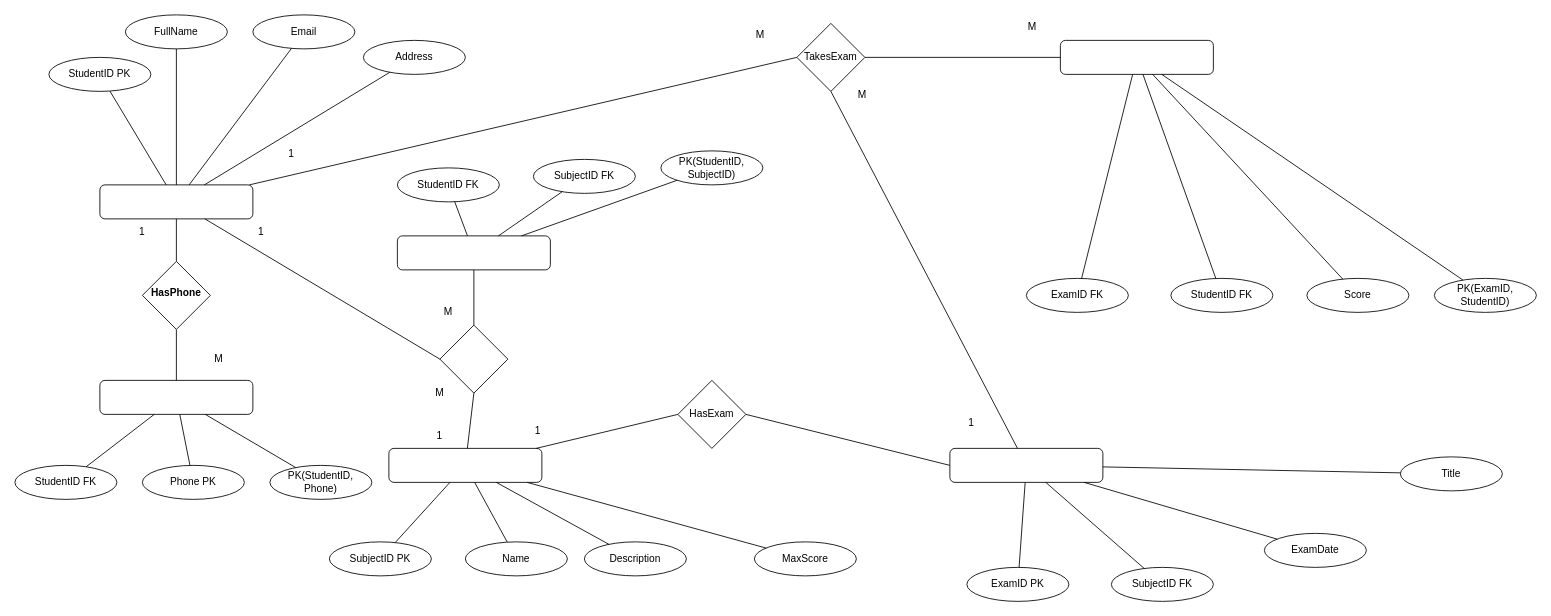
This 1551x616 diagram has some shape labels left out. Here are the shapes that lost their labels. From the top down, the box of each, then its label:
(1060, 40, 1213, 74): EXAM_RESULT
(99, 184, 253, 219): STUDENT
(397, 235, 550, 270): ENROLLMENT
(439, 324, 508, 393): EnrollsIn
(99, 380, 253, 414): STUDENT_PHONE
(388, 448, 542, 482): SUBJECT
(949, 448, 1103, 482): EXAM
